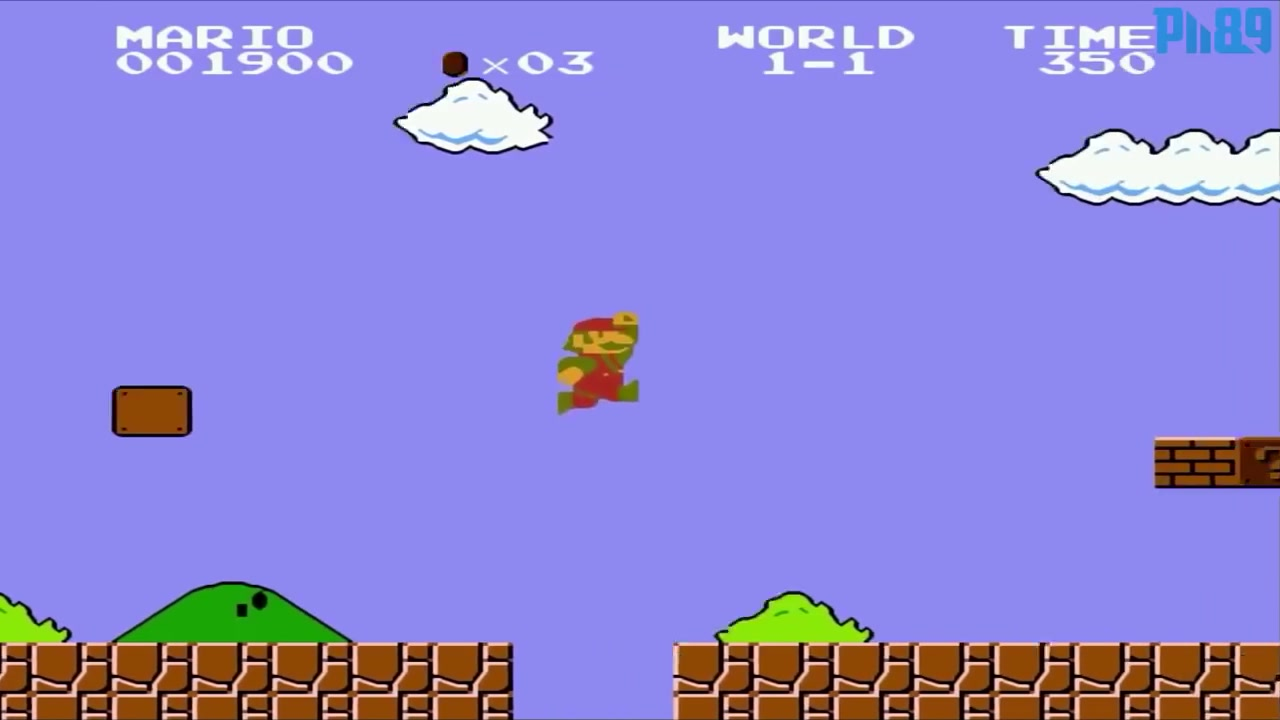mario: (554, 312, 642, 416)
